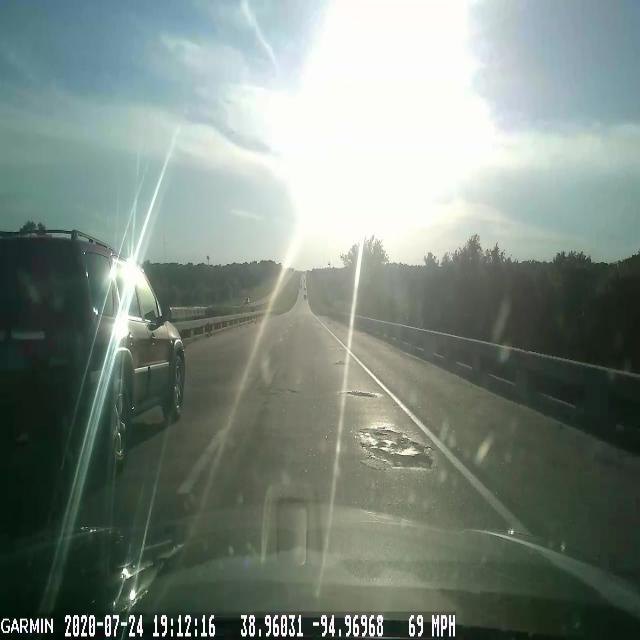Pothole: (353, 417, 438, 483), (340, 382, 390, 406)
